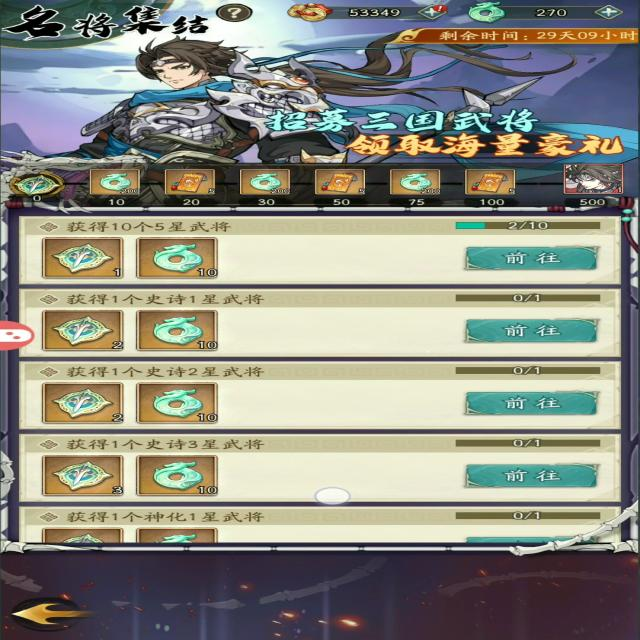hint-reddot: (430, 4, 455, 15)
operation-back: (8, 601, 95, 634)
operation-buy: (454, 461, 622, 492), (456, 242, 594, 272), (448, 319, 590, 344), (461, 394, 601, 419)
operation-rule: (207, 1, 272, 25)
ref-buytext: (35, 506, 278, 532), (49, 358, 278, 385), (42, 285, 276, 311), (45, 435, 267, 453), (38, 219, 271, 236)
